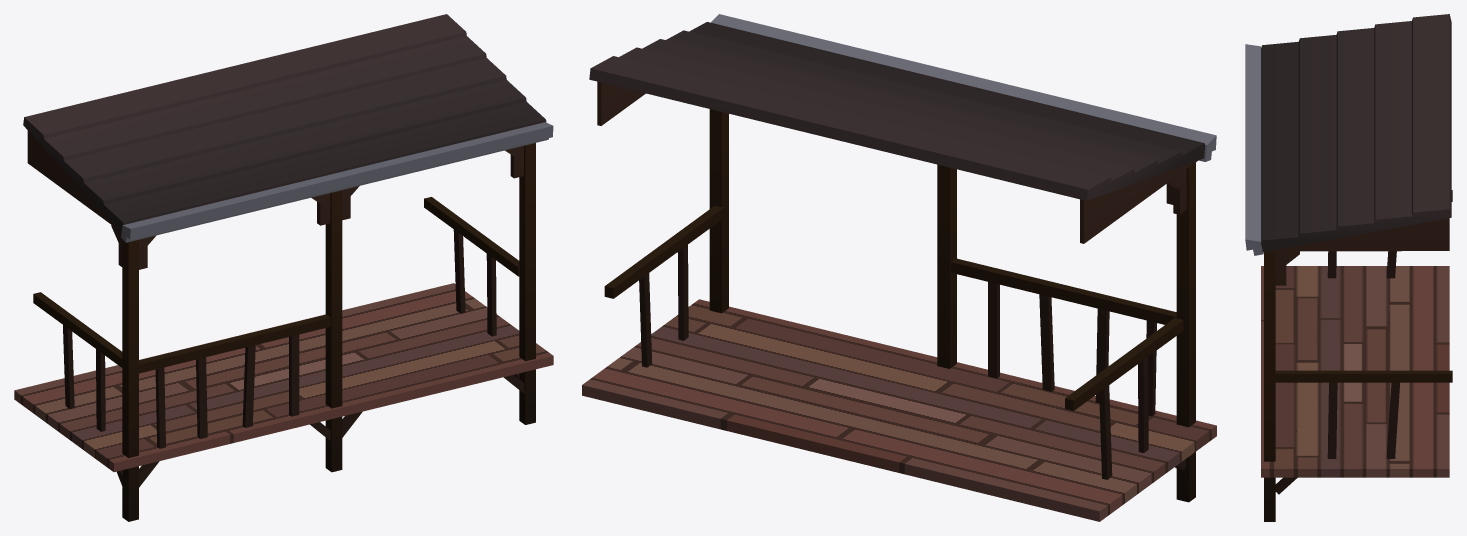
File: Deck 5M v03.glb
The picture shows the model from 3 angles, left to right: view 1: azimuth 30°, elevation 25°; view 2: azimuth 150°, elevation 25°; view 3: azimuth 270°, elevation 25°; orthographic projection. The views are drawn at different scales.
Parts seen in each view (by area): view 1: Deck 5M v03; view 2: Deck 5M v03; view 3: Deck 5M v03.
Part boxes in pixels (x1,y1,x2,y2): Deck 5M v03: (14,14,553,521); Deck 5M v03: (582,14,1216,521); Deck 5M v03: (1245,14,1452,521).
Size of what is drawn, in the model's own units: 5.1 by 3.71 by 2.2.
Materials: 2 (2 with a texture image).
